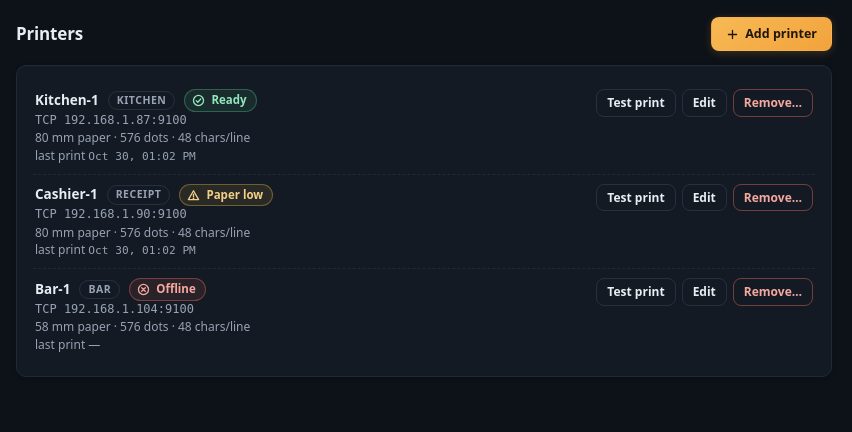
Test case: PrintersScreen › runs a test print and shows hand-off wording, not a print claim
The width and height of the screenshot is (852, 432).
expect the list item "Kitchen-1" is shown: met, box x1=35 y1=91 x2=99 y2=109
Click the button "Test print" in the row of "Kitchen-1". click: coordinates (636, 103)
box: x1=596 y1=89 x2=676 y2=116
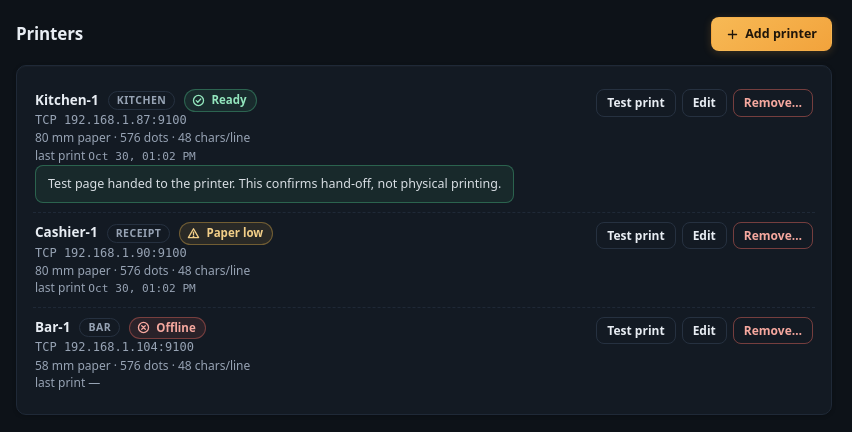
expect the message shows "handed to the printer": met, box x1=48 y1=175 x2=501 y2=192
